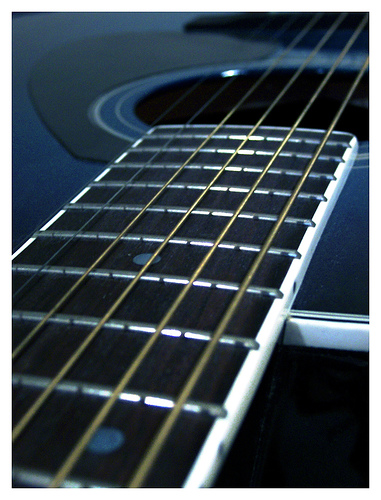guitar: (12, 11, 369, 487)
